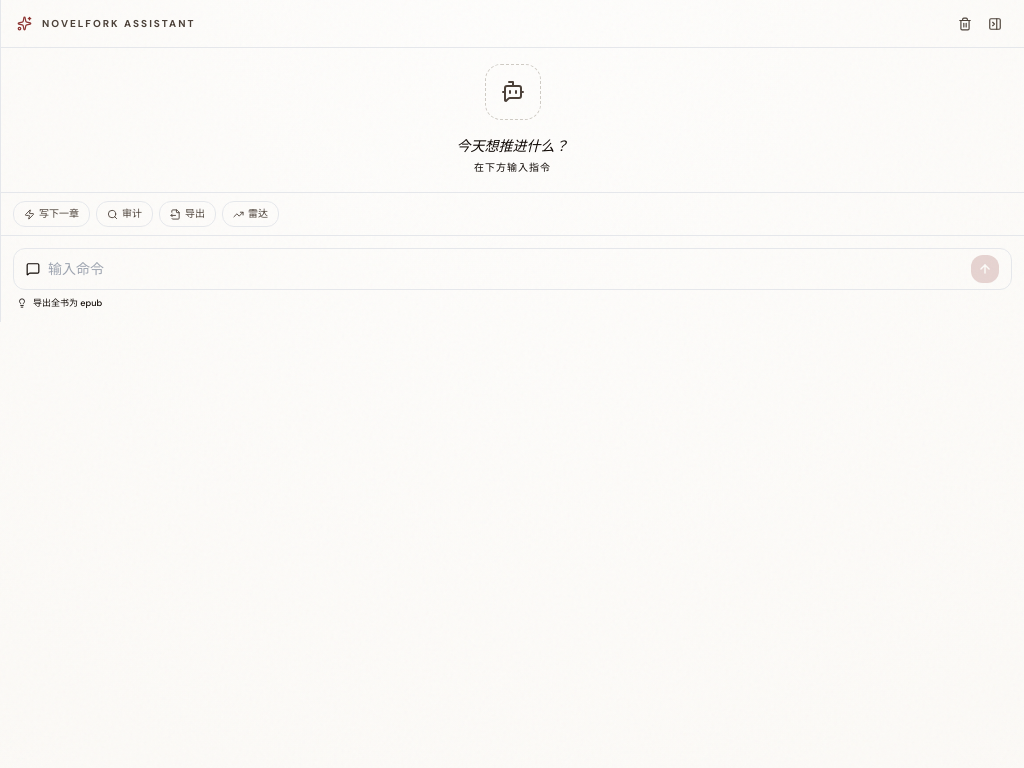
ChatPanel AI gate › blocks direct write-next commands without clearing the pending input
Step 1. Type "写下一章" into the field with test id "message-input" → x=506, y=269, box [48,259,963,279]
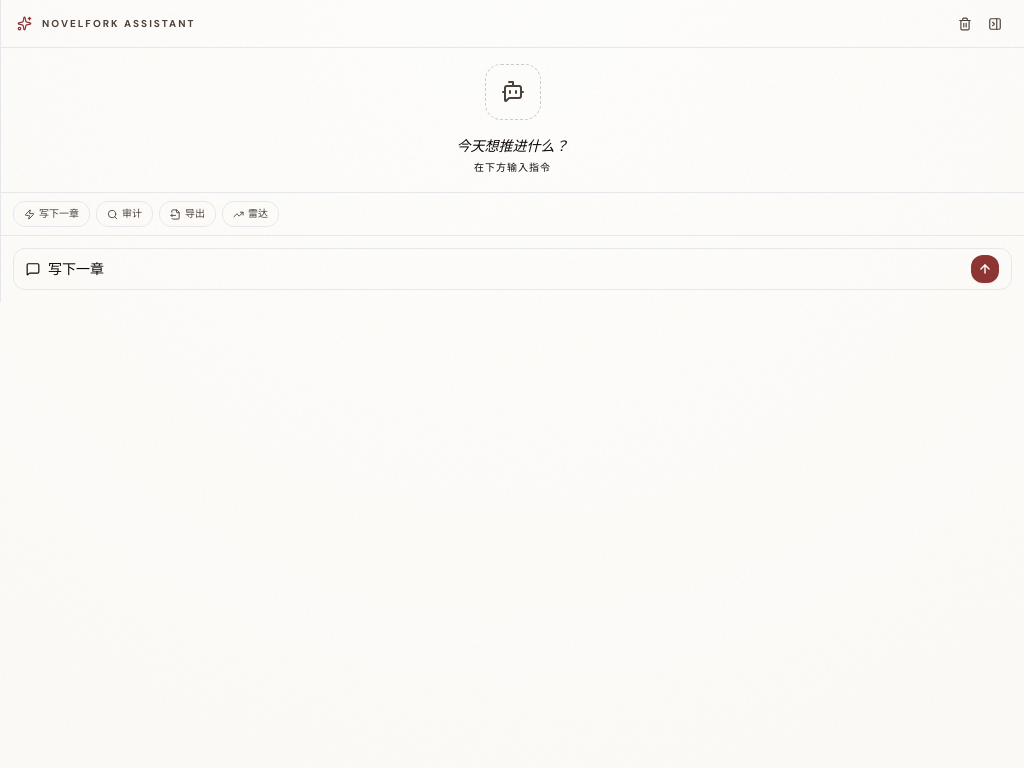
Step 2. Click the button with test id "send-message-btn" → x=985, y=269, box [971,255,999,283]
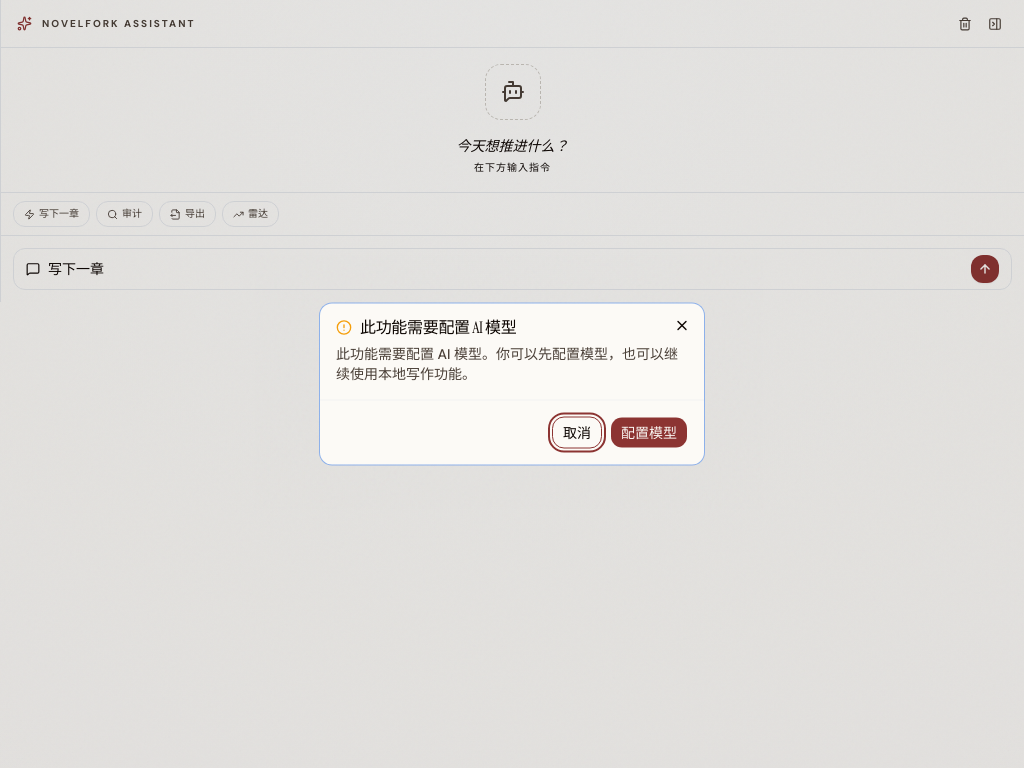
Check: the heading "此功能需要配置 AI 模型" is shown, box [336,316,516,338]
